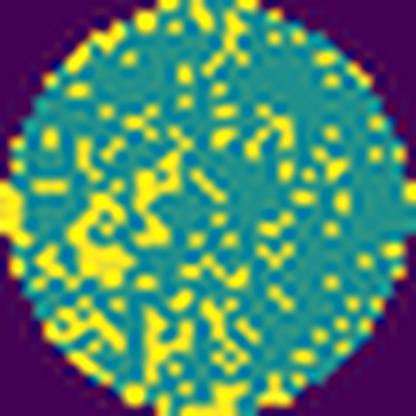Loc: (66, 184, 137, 286), (136, 146, 182, 243), (144, 305, 196, 385)
